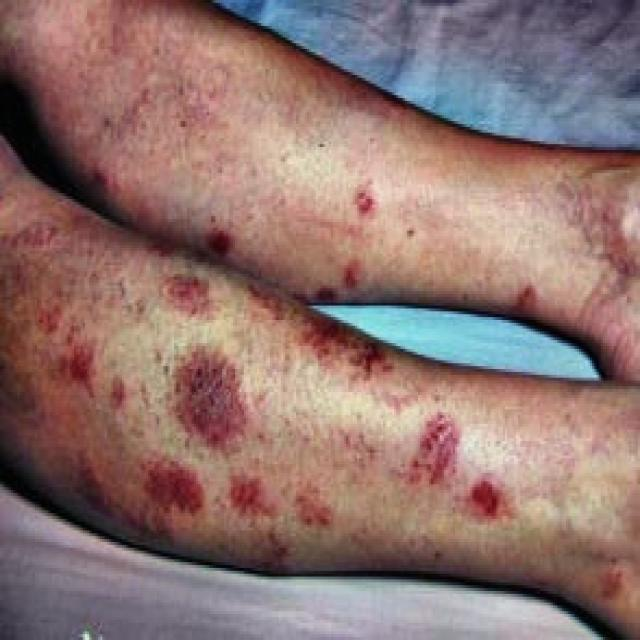Atopic-Dermatitis: (26, 119, 638, 584)
